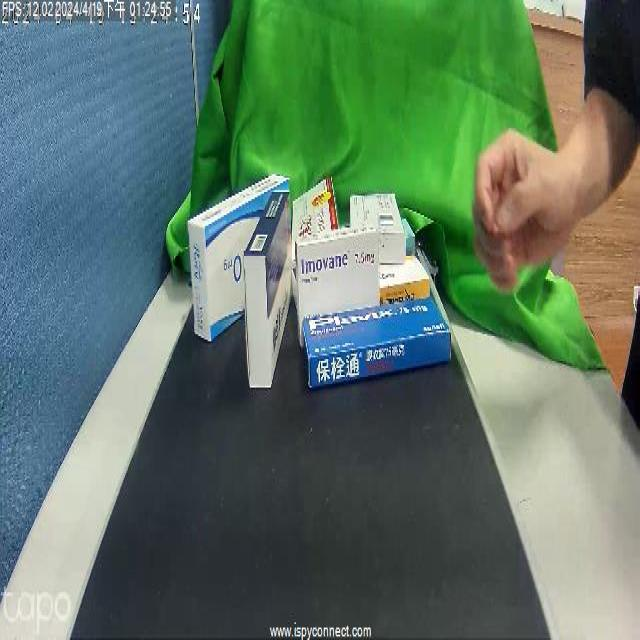box: (188, 180, 274, 346), (301, 307, 443, 385), (237, 220, 296, 390), (297, 240, 387, 330), (289, 172, 338, 255), (351, 190, 405, 250)
